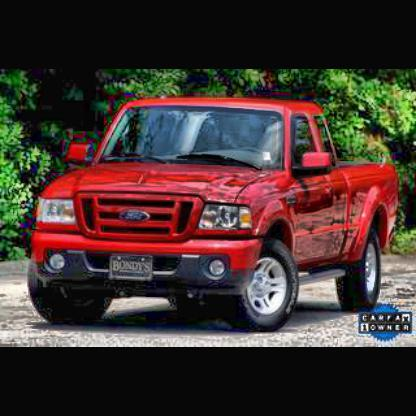Ford Ranger SuperCab 2011: (31, 100, 400, 332)
